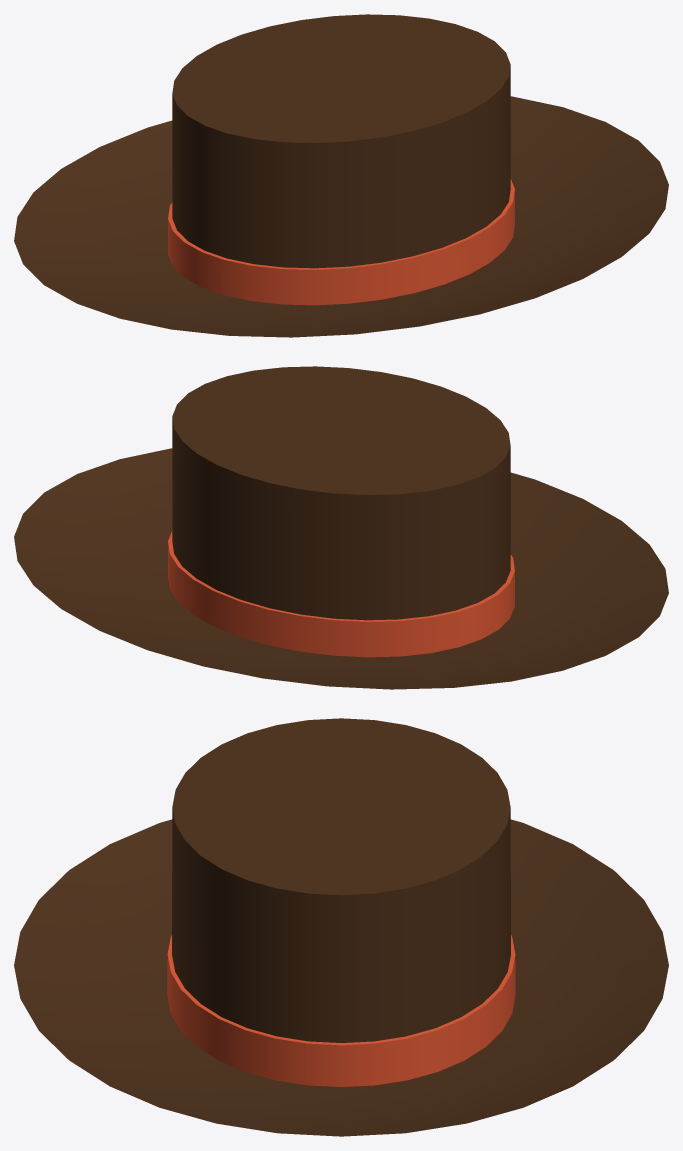
The model's file is chapeau.glb.
3 views of the same model, one above another, from view 1: azimuth 30°, elevation 25°; view 2: azimuth 150°, elevation 25°; view 3: azimuth 270°, elevation 25° (orthographic). The views are drawn at different scales.
Parts seen in each view (by area): view 1: Cylinder; view 2: Cylinder; view 3: Cylinder.
Boxes of the visible parts, <box> form: Cylinder: <box>14,14,668,337</box>; Cylinder: <box>14,366,668,689</box>; Cylinder: <box>14,718,668,1136</box>.
Size of the model in its own units: 3.87 by 1 by 3.13.
